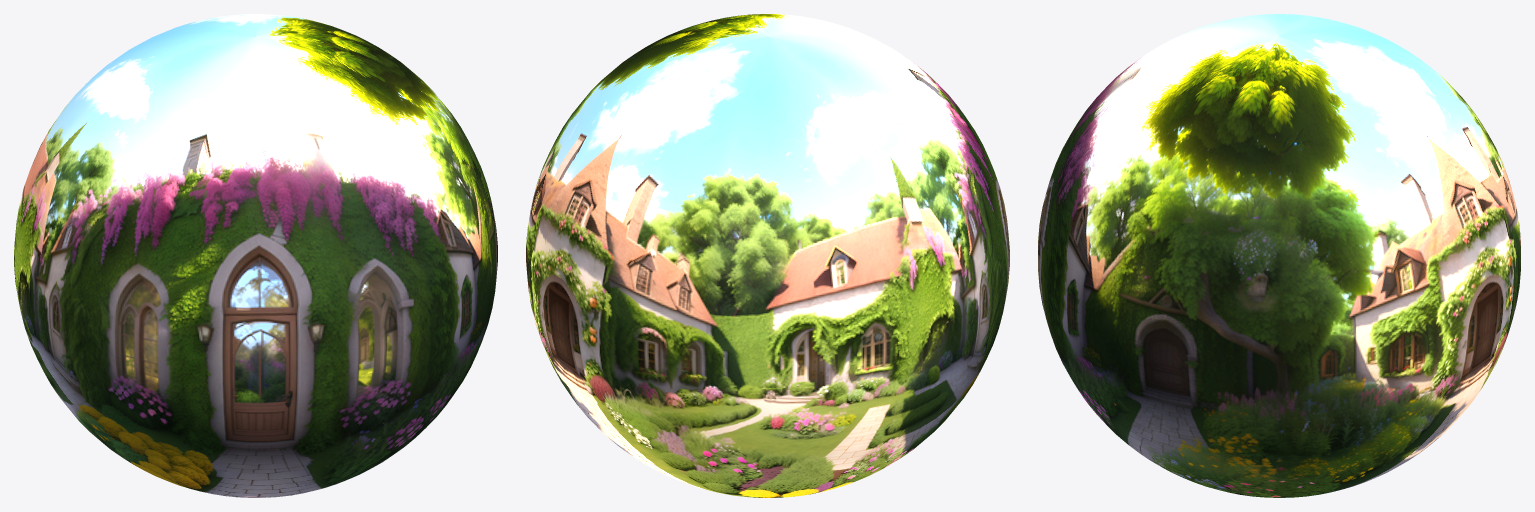
The model's file is fairytale_garden.glb.
The picture shows the model from 3 angles, left to right: view 1: azimuth 30°, elevation 25°; view 2: azimuth 150°, elevation 25°; view 3: azimuth 270°, elevation 25°; orthographic projection.
Parts seen in each view (by area): view 1: Fairytale_Garden; view 2: Fairytale_Garden; view 3: Fairytale_Garden.
Part boxes in pixels (x1,y1,x2,y2): Fairytale_Garden: [14, 14, 497, 497]; Fairytale_Garden: [526, 14, 1009, 497]; Fairytale_Garden: [1038, 14, 1520, 497].
Bounding box in the file's own units: 0.2478 × 0.248 × 0.2473.
1 material, 1 textured.
